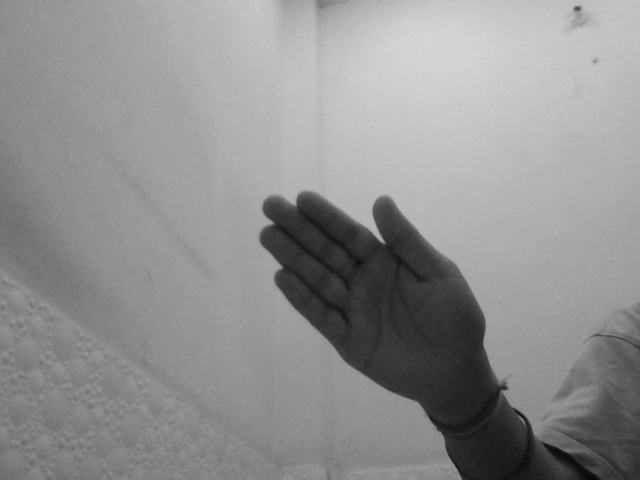Hello: (258, 190, 489, 410)
